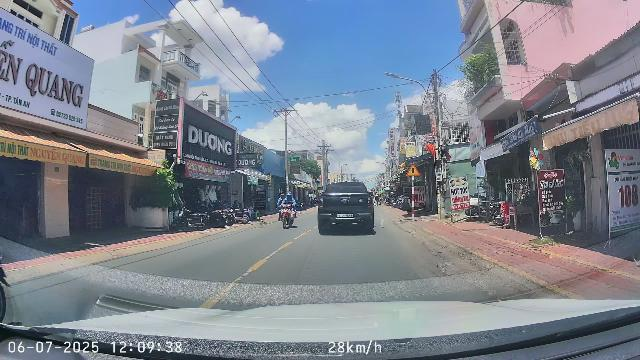207-giao-nhau-voi-duong-khong-uu-tien: (406, 164, 420, 176)
